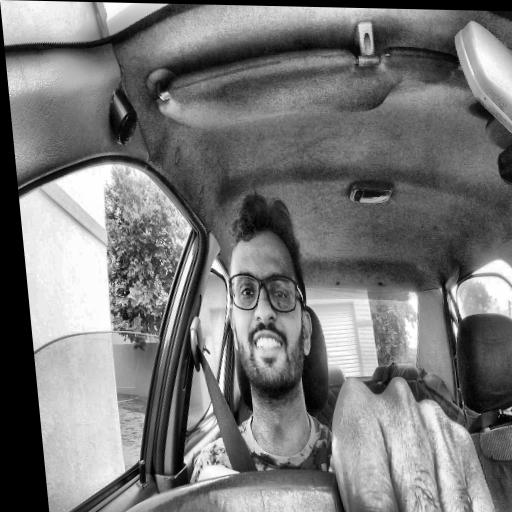awake: (216, 191, 319, 396)
